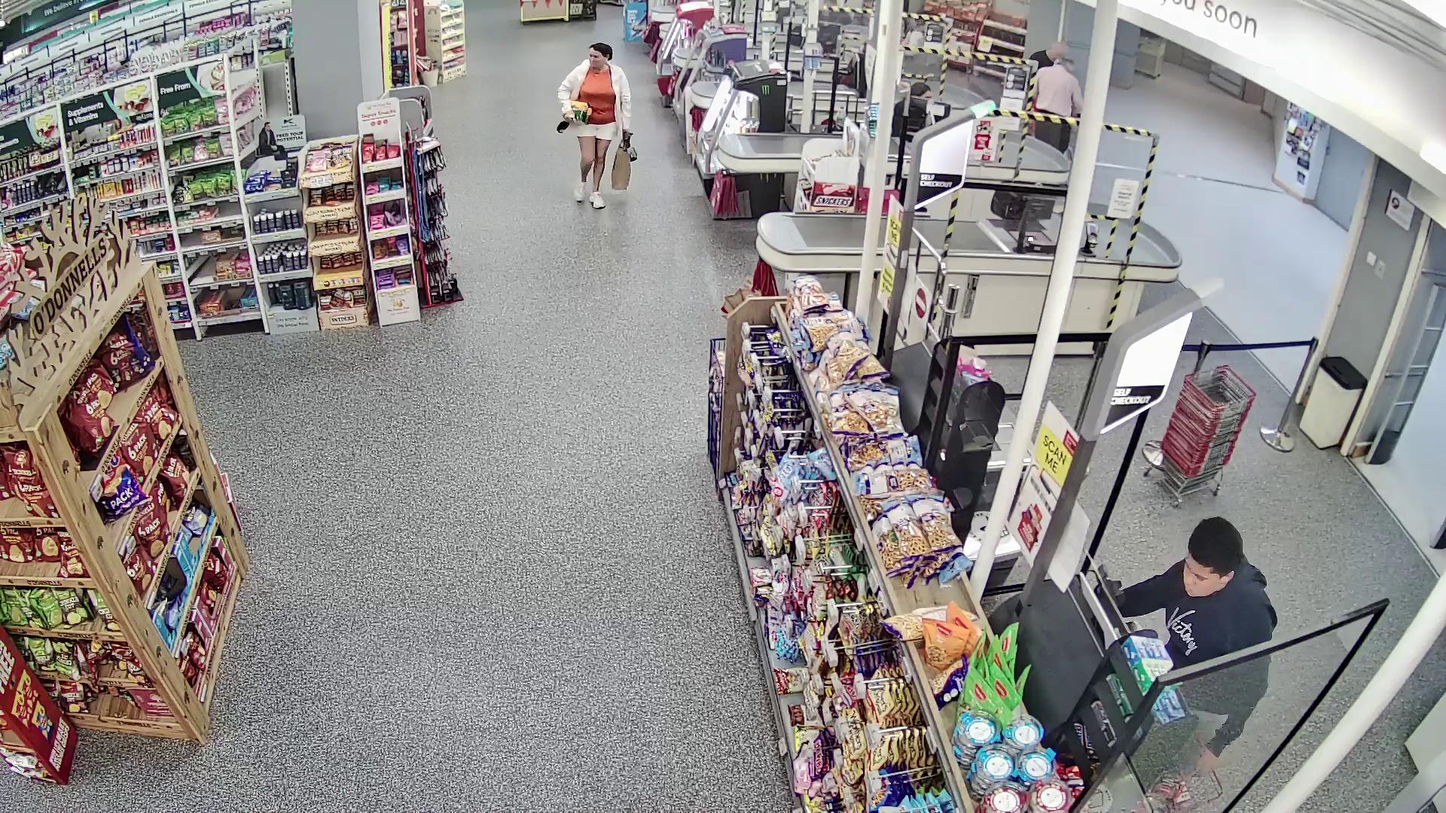carrying-item: (556, 100, 592, 134)
filled-shopping-bags: (612, 145, 631, 190)
person: (557, 42, 633, 209)
person with carrying item-s- and shopping bag-s-: (555, 42, 632, 208)
